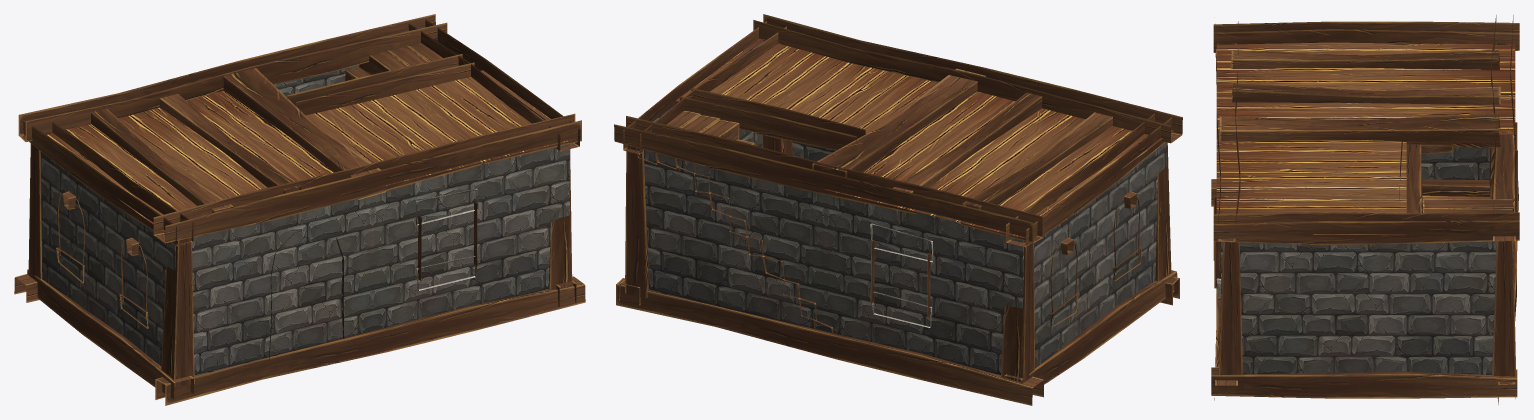
The model's file is interior_house_04.fbx.
3 views of the same model, side by side, from view 1: azimuth 30°, elevation 25°; view 2: azimuth 150°, elevation 25°; view 3: azimuth 270°, elevation 25° (orthographic).
Parts seen in each view (by area): view 1: interior_house_04; view 2: interior_house_04; view 3: interior_house_04.
Part boxes in pixels (box(x1,y1,x2,y2)): interior_house_04: box(14, 14, 585, 405); interior_house_04: box(614, 14, 1182, 405); interior_house_04: box(1211, 15, 1519, 404).
Bounding box in the file's own units: 10113 × 6373 × 4230.
Materials: 1 (1 with a texture image).
